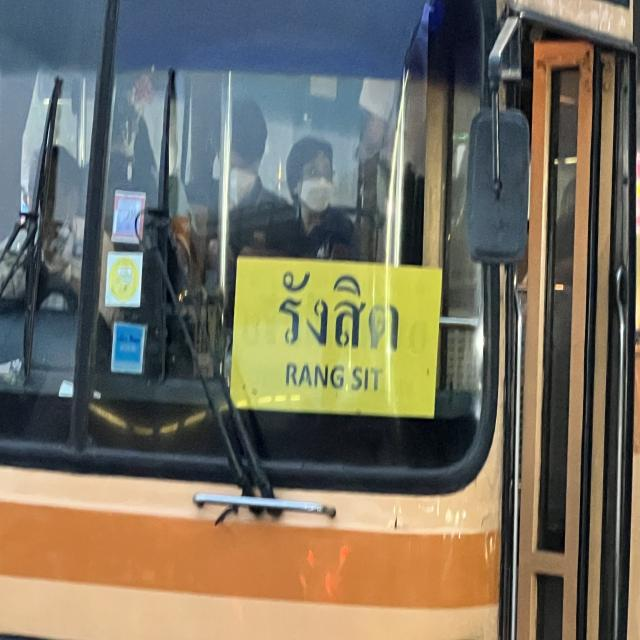BMTA-bus: (0, 0, 640, 640)
Destination-Sign-Normal-Expressway: (236, 250, 440, 417)
